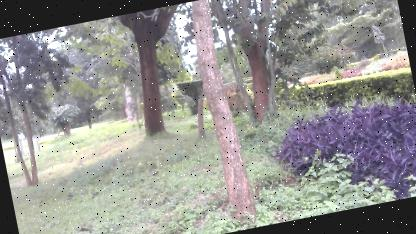tree: (173, 0, 265, 228), (96, 3, 206, 145), (212, 0, 332, 124), (0, 27, 84, 195)
